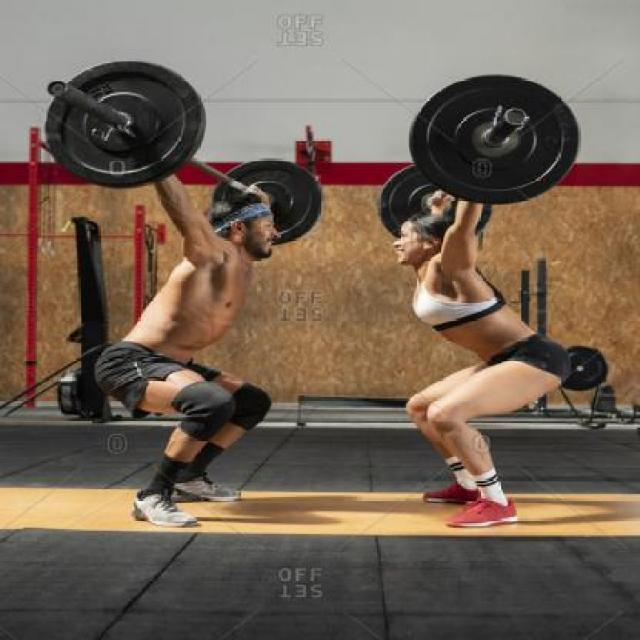Barbell: (46, 73, 76, 102), (498, 106, 534, 128)
